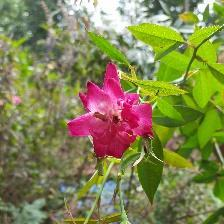rose: (69, 62, 154, 160)
